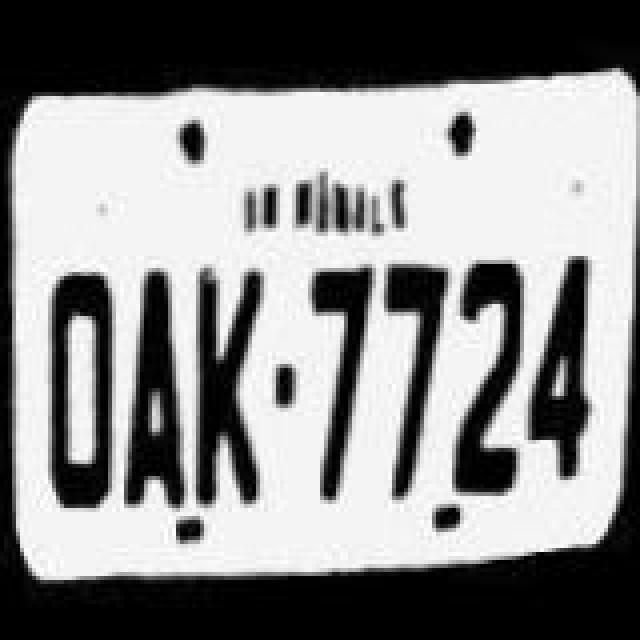2: (456, 252, 532, 496)
4: (528, 250, 604, 486)
7: (300, 262, 380, 510), (380, 256, 448, 504)
A: (116, 262, 196, 518)
K: (192, 252, 272, 516)
O: (36, 266, 124, 526)
